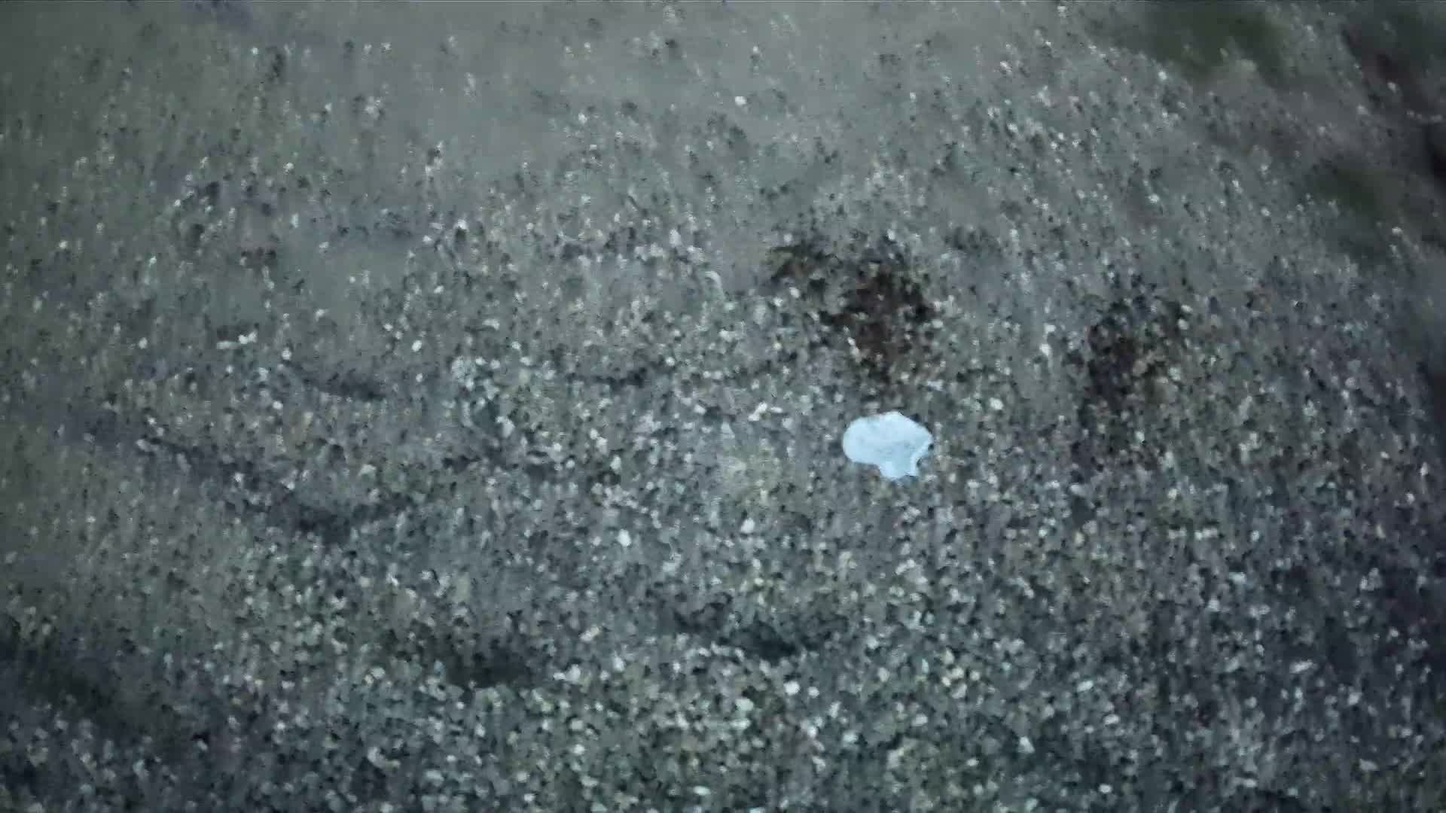Target: (835, 401, 934, 485)
